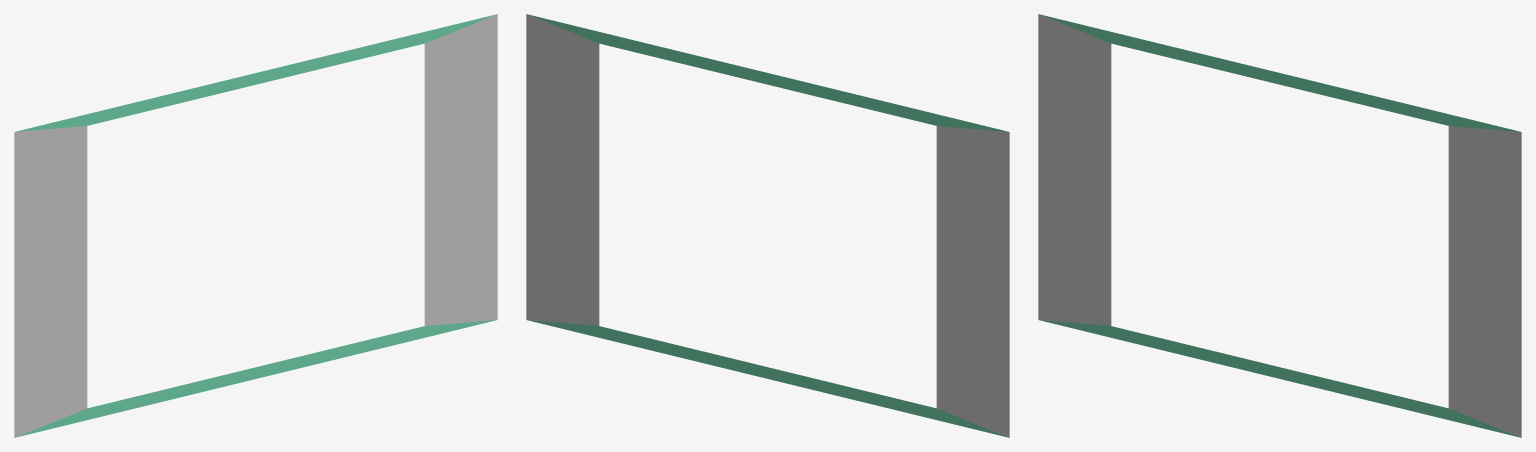
Rendered from ScreenDim_01.fbx.
The picture shows the model from 3 angles, left to right: view 1: azimuth 30°, elevation 25°; view 2: azimuth 150°, elevation 25°; view 3: azimuth 330°, elevation 25°; orthographic projection.
Parts seen in each view (by area): view 1: ScreenDims; view 2: ScreenDims; view 3: ScreenDims.
Part boxes in pixels (bbox=[...]): ScreenDims: bbox=[14, 14, 497, 437]; ScreenDims: bbox=[526, 14, 1009, 437]; ScreenDims: bbox=[1038, 14, 1521, 437].
Size of the model in its own units: 2150 by 1300 by 0.000212.
